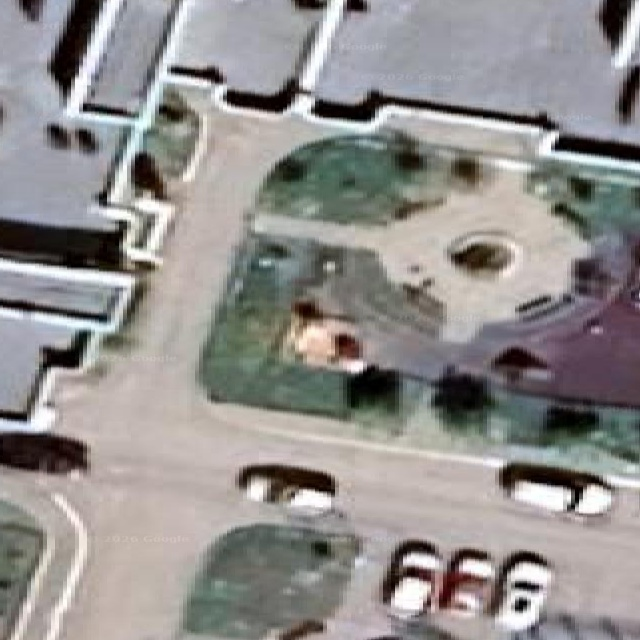car: (382, 540, 552, 632), (497, 463, 612, 515), (489, 552, 552, 632), (236, 464, 335, 513), (382, 540, 442, 619), (440, 548, 493, 615), (2, 432, 88, 472), (387, 567, 432, 619), (569, 480, 612, 515), (288, 487, 332, 512), (276, 620, 324, 639), (18, 0, 43, 20), (427, 627, 453, 639), (293, 0, 327, 8), (347, 0, 366, 11), (368, 635, 403, 639), (369, 635, 400, 639)
